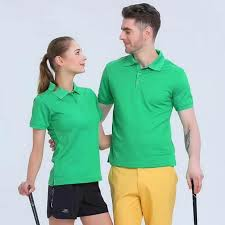S_polo shirt: (102, 50, 198, 173), (27, 81, 108, 186)
